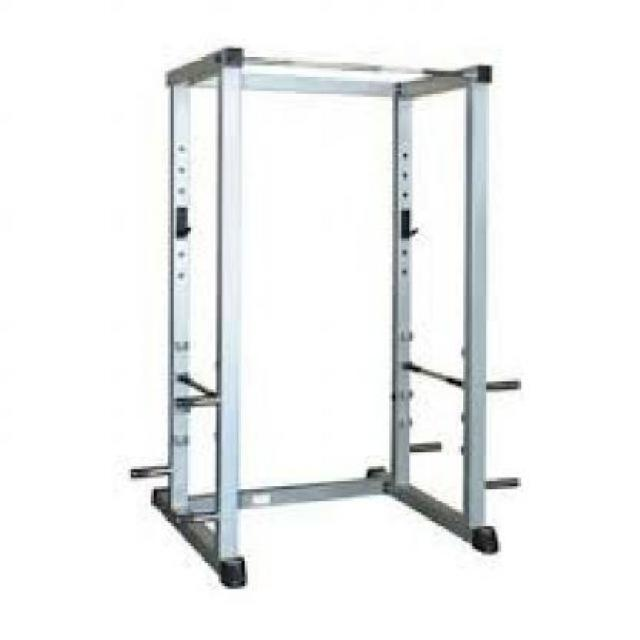smith machine: (133, 46, 522, 589)
